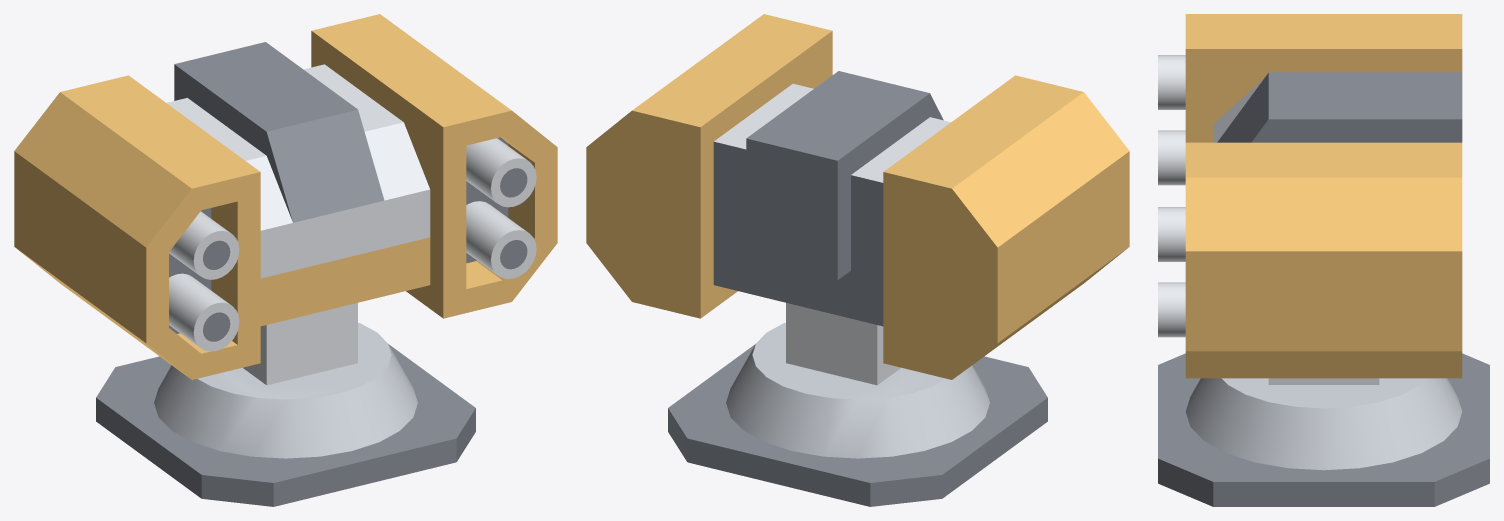
File: turret.fbx
3 renders of one model, left to right at view 1: azimuth 30°, elevation 25°; view 2: azimuth 150°, elevation 25°; view 3: azimuth 270°, elevation 25°, orthographic. The views are drawn at different scales.
Visible parts, largest first — view 1: head, base; view 2: head, base; view 3: head, base.
Part boxes in pixels (bbox=[...]): head: bbox=[14, 14, 557, 379]; base: bbox=[96, 303, 475, 506]; head: bbox=[586, 14, 1129, 379]; base: bbox=[668, 303, 1047, 506]; head: bbox=[1158, 14, 1462, 378]; base: bbox=[1158, 353, 1489, 506].
Bounding box in the file's own units: 90 × 68.01 × 60.
